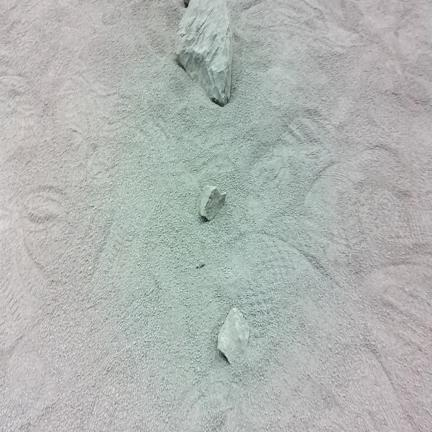Rock: (175, 0, 233, 106), (218, 308, 249, 363), (200, 185, 226, 220)
